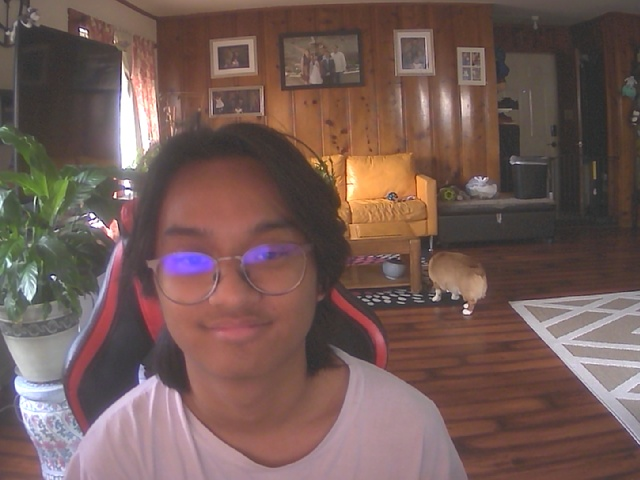happy: (139, 133, 334, 384)
